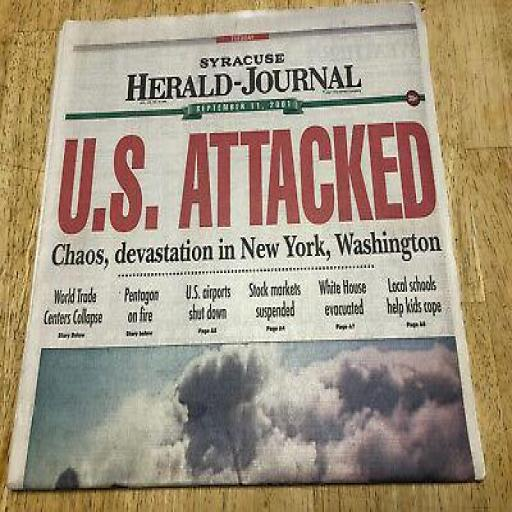paper: (6, 0, 488, 494)
